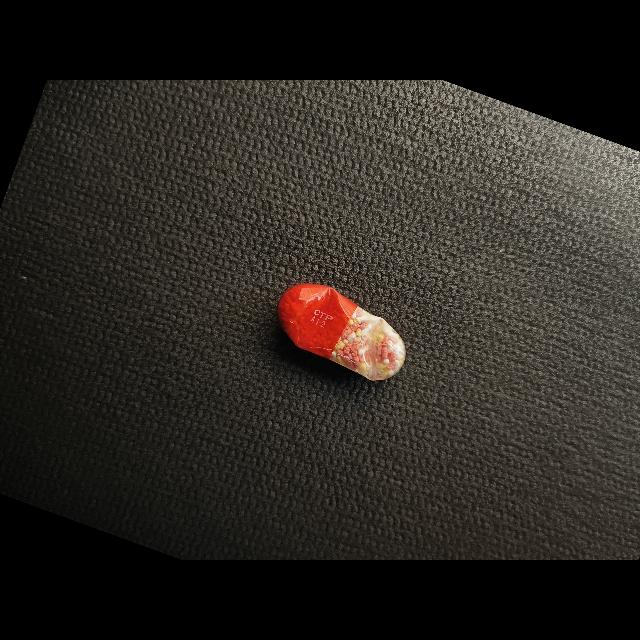Defective Capsule: (277, 284, 406, 381)
